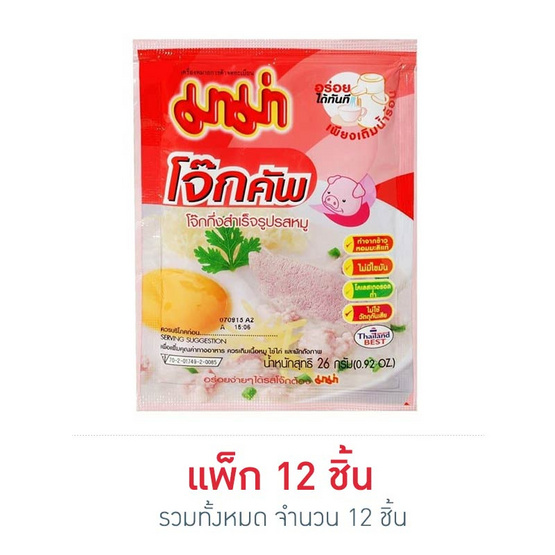Snack: (124, 32, 428, 417)
